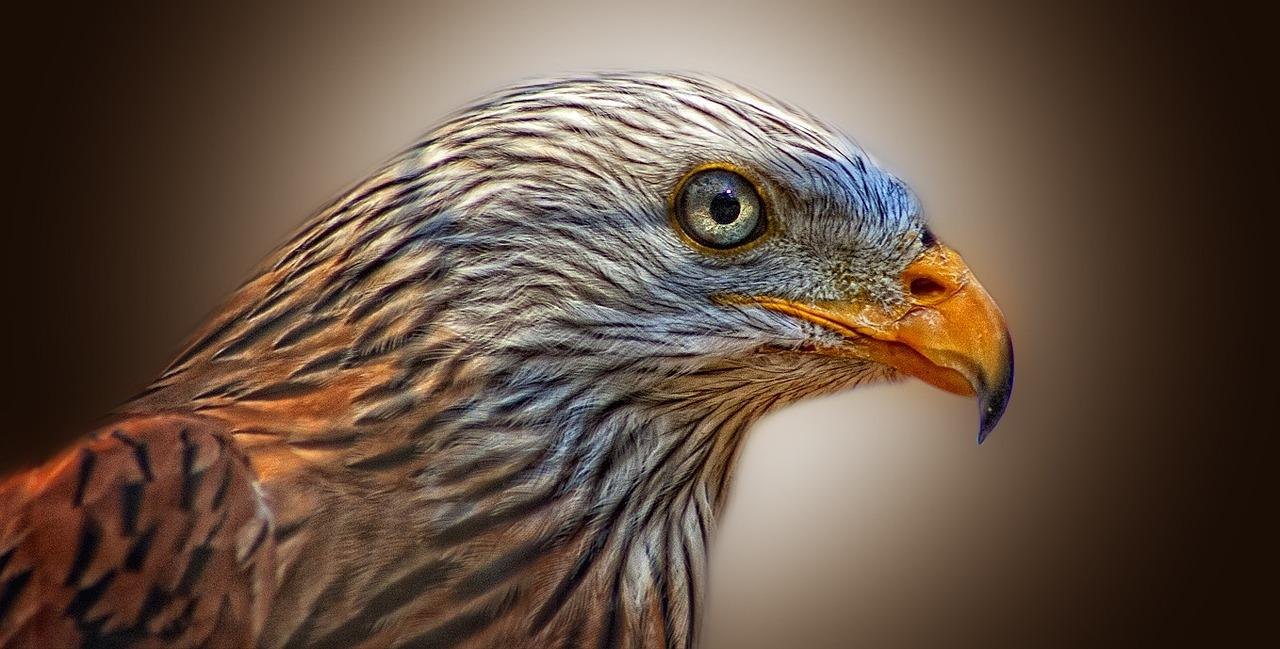bird: (0, 73, 1012, 648)
